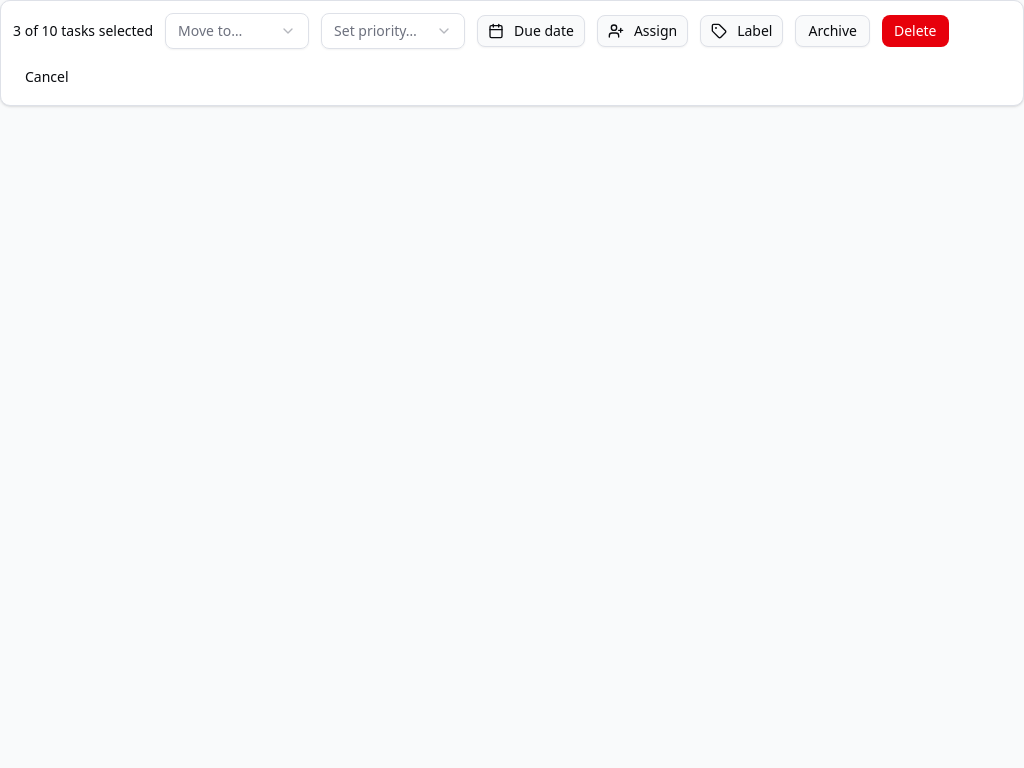
it: BulkActionsBar › shows 'No labels' when the label list is empty
Click the button with aria-label "add label".
click(742, 31)  # box [700,15,784,47]
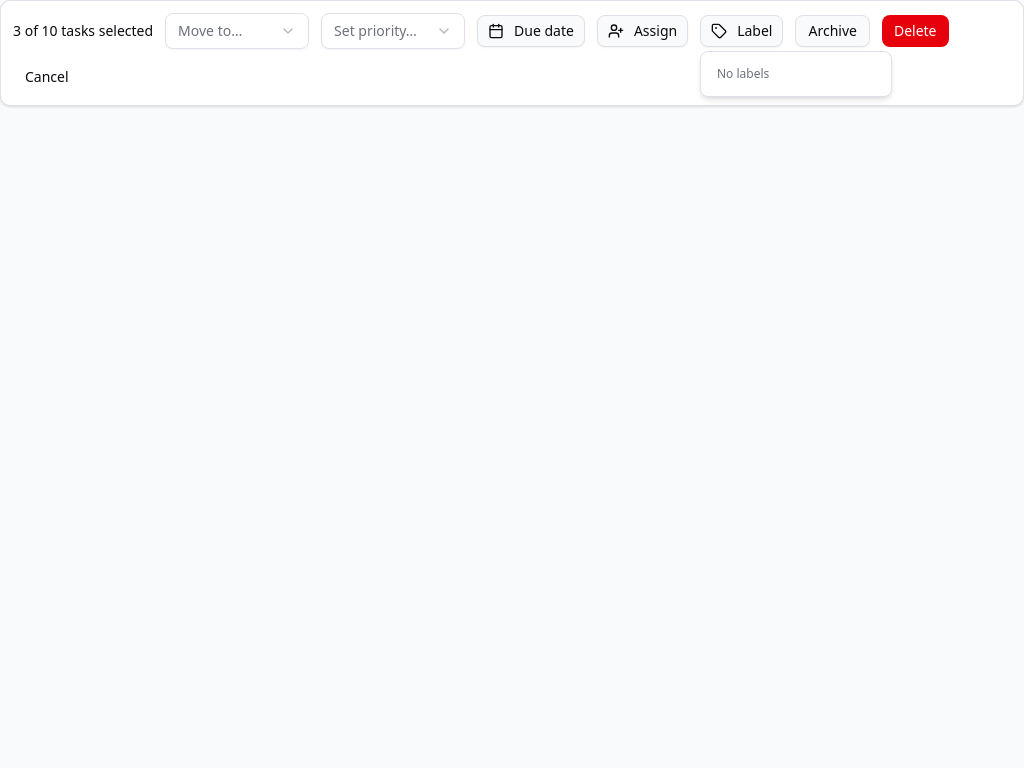
Expected: the text "No labels" is shown, [717,65,769,82]
